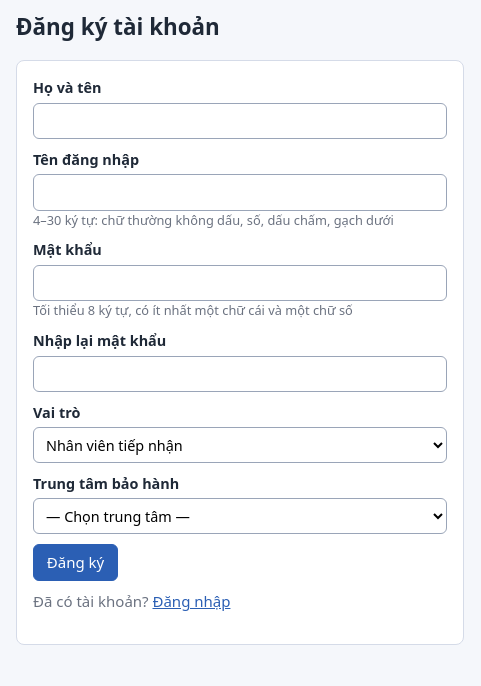
Test: Trang đăng ký › dữ liệu sai: tên đăng nhập trùng (409) và mã đăng ký sai (403) hiện cạnh đúng ô, giữ nguyên các ô khác
This screenshot has width=481, height=686.
Type "Nguyễn Văn An" into the field labelled "Họ và tên" at (240, 121), box x1=33 y1=103 x2=447 y2=139
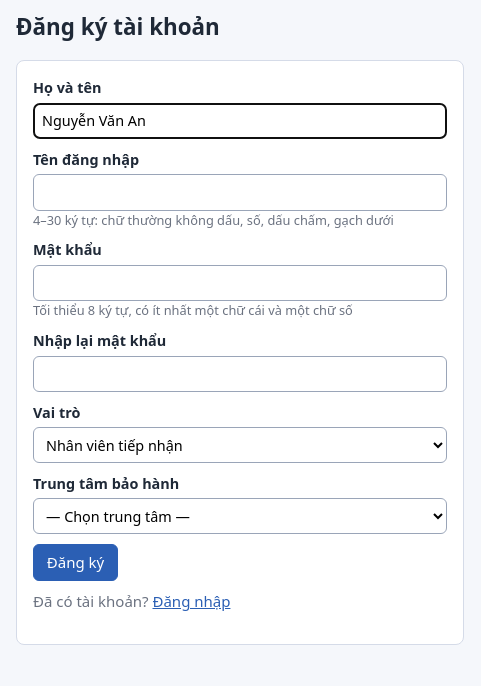
Type "van.an" into the field labelled "Tên đăng nhập" at (240, 192), box x1=33 y1=174 x2=447 y2=211
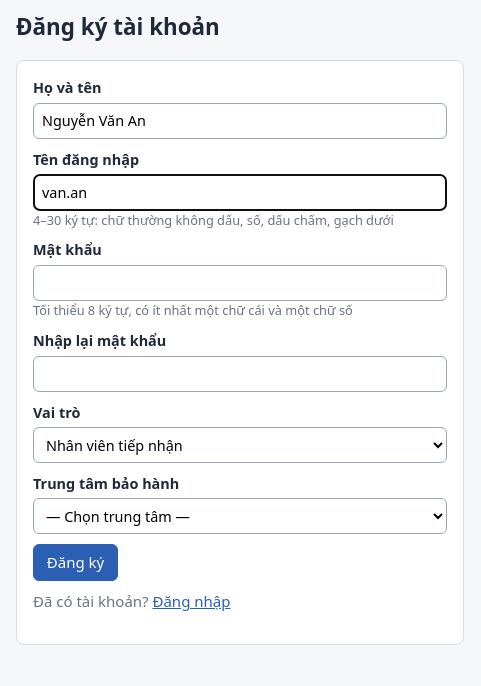
Type "Matkhau123" into the password field labelled "Mật khẩu" at (240, 283), box x1=33 y1=265 x2=447 y2=301
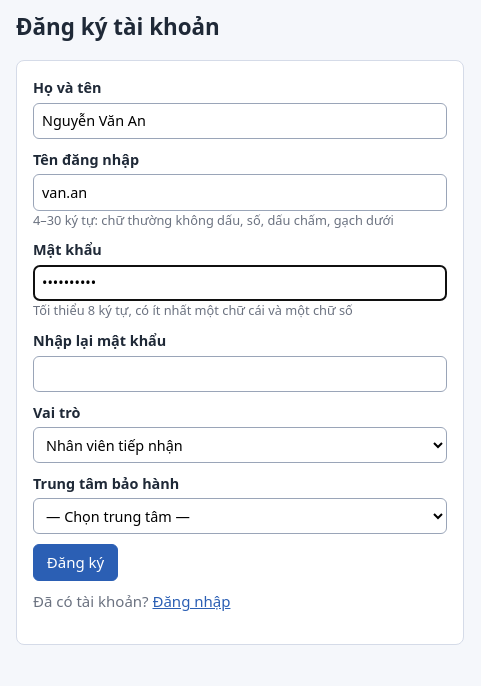
Type "Matkhau123" into the password field labelled "Nhập lại mật khẩu" at (240, 374), box x1=33 y1=356 x2=447 y2=392
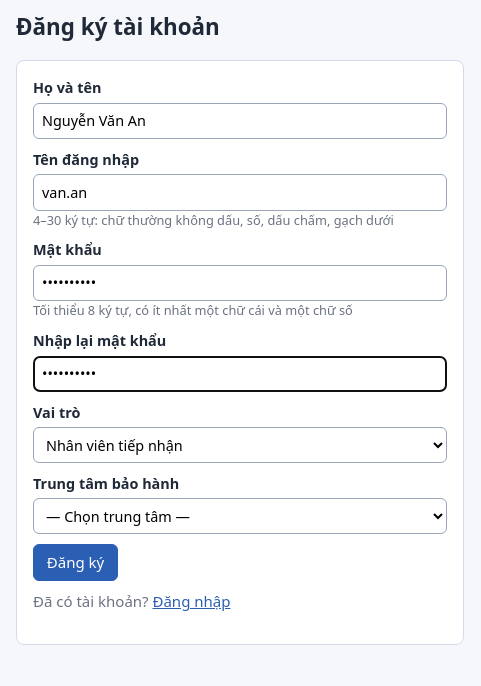
Select "Trung tâm Vĩnh Long (Vĩnh Long)" in the dropdown labelled "Trung tâm bảo hành" at (240, 516), box x1=33 y1=498 x2=447 y2=534
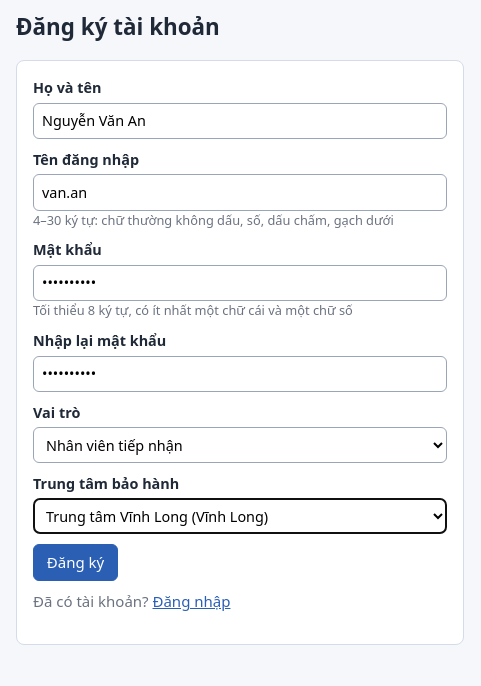
Click the button "Đăng ký" at (76, 562), box x1=33 y1=544 x2=118 y2=581
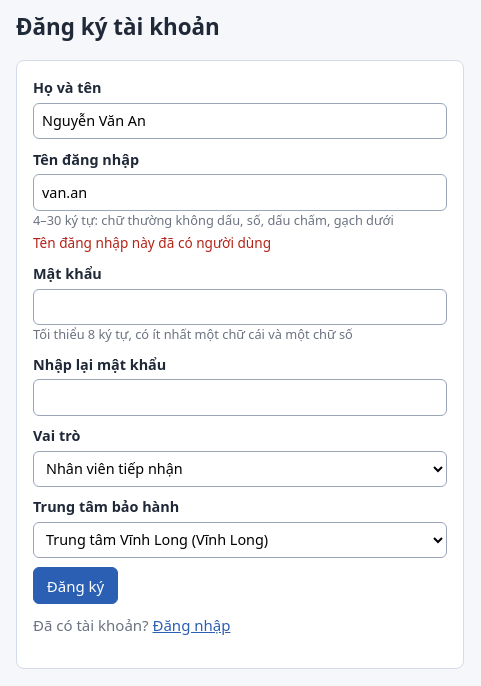
expect the text "Tên đăng nhập này đã có người dùng" is shown: met, box x1=33 y1=233 x2=271 y2=252
expect the password field labelled "Mật khẩu" is empty: met, box x1=33 y1=288 x2=447 y2=325
